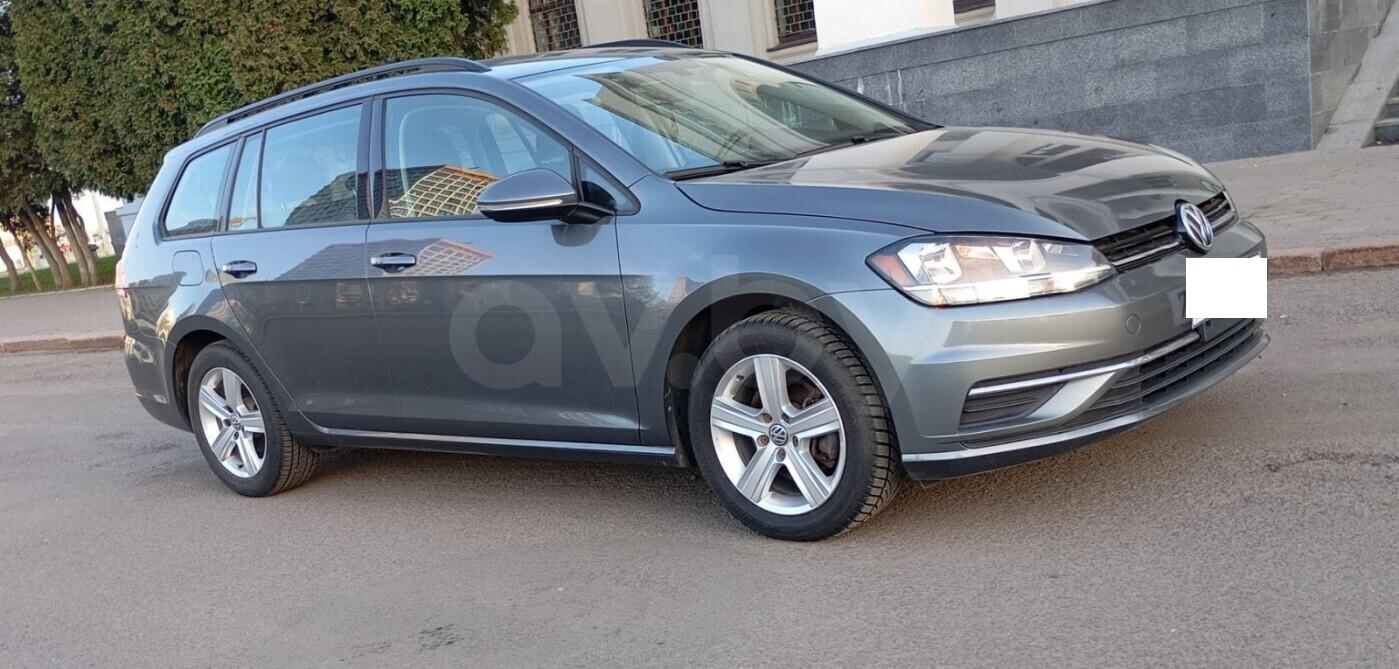Golf_2017-2021: (110, 40, 1266, 533)
